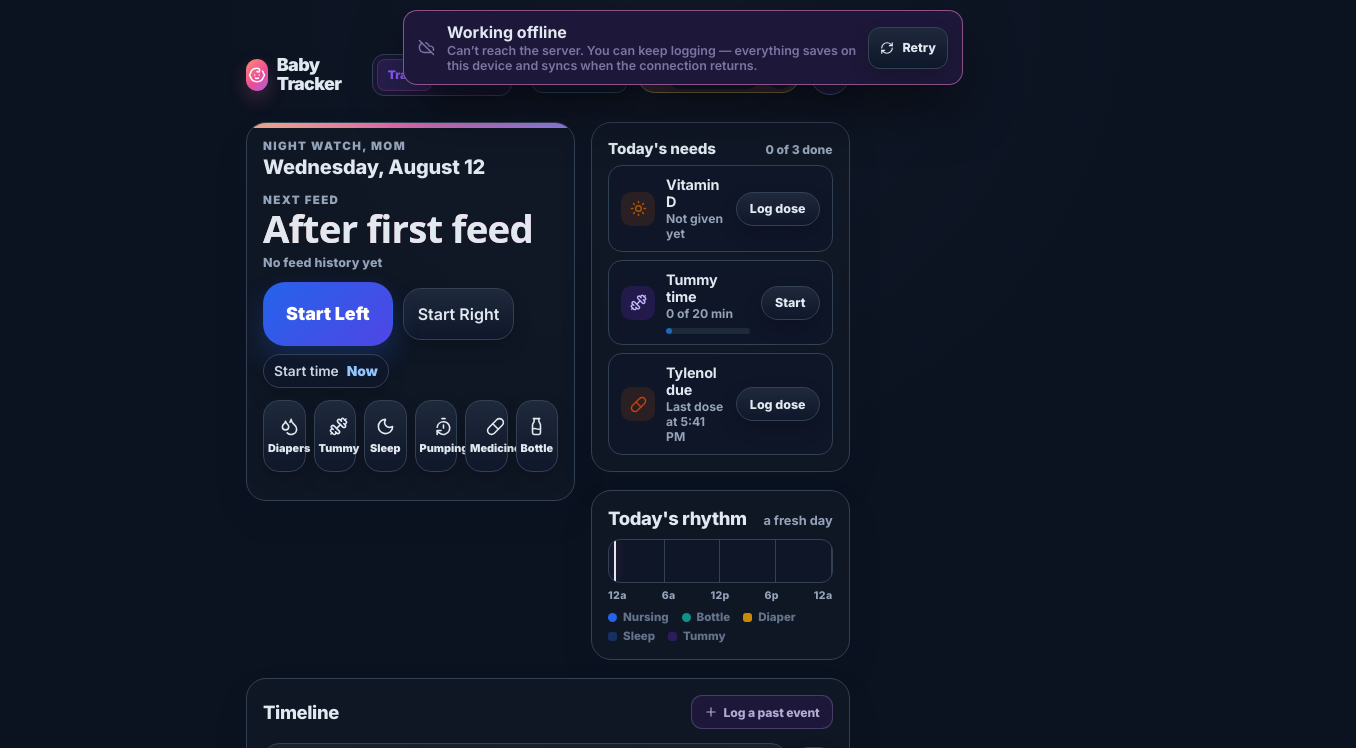
it: caregiver today brief › surfaces a due medicine as an actionable need
expect the text "Tylenol due" is shown: met, box x1=666 y1=364 x2=725 y2=398
expect the text "0 of 3 done" is shown: met, box x1=765 y1=142 x2=833 y2=157
Click the button with aria-label "Log Tylenol dose" at (778, 404), box x1=736 y1=387 x2=820 y2=421
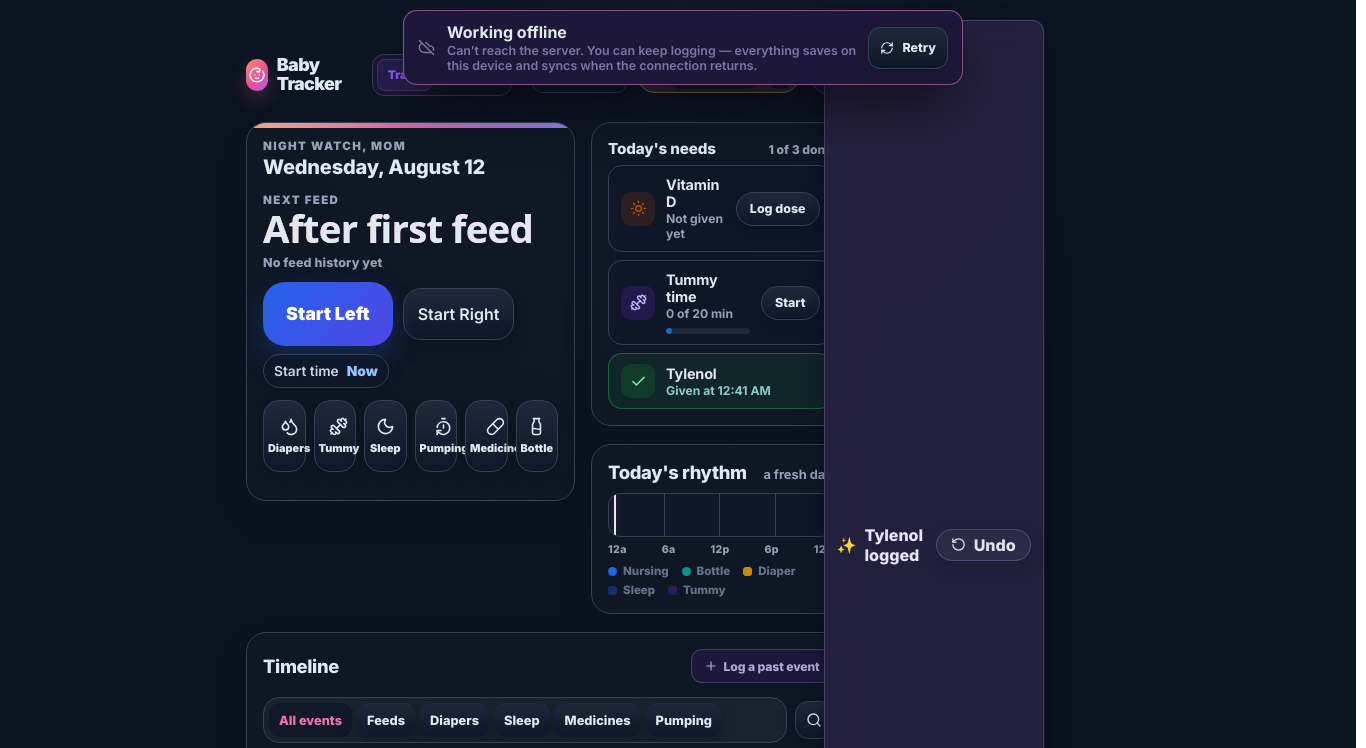
expect the text "Tylenol due" is gone: met
expect the text "Tylenol Given at 12:41 AM" is shown: met, box x1=608 y1=353 x2=833 y2=409
expect the text "1 of 3 done" is shown: met, box x1=768 y1=142 x2=833 y2=157
